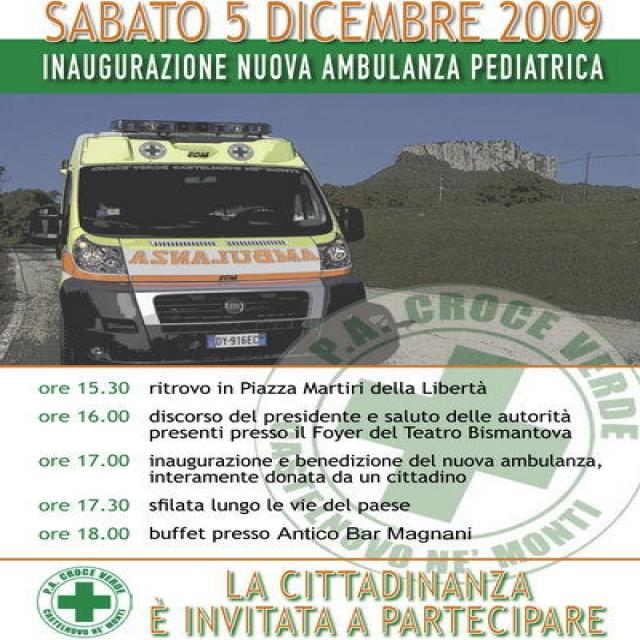emergency-vehicle: (48, 128, 395, 368)
